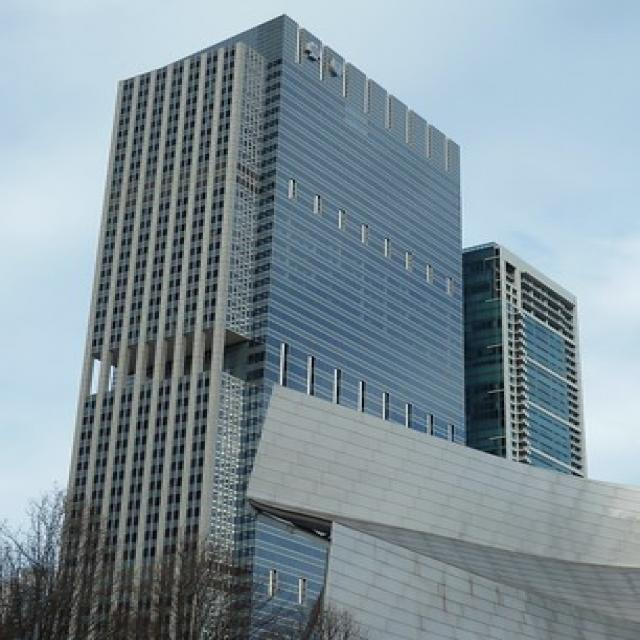Normal_building: (47, 8, 478, 640)
